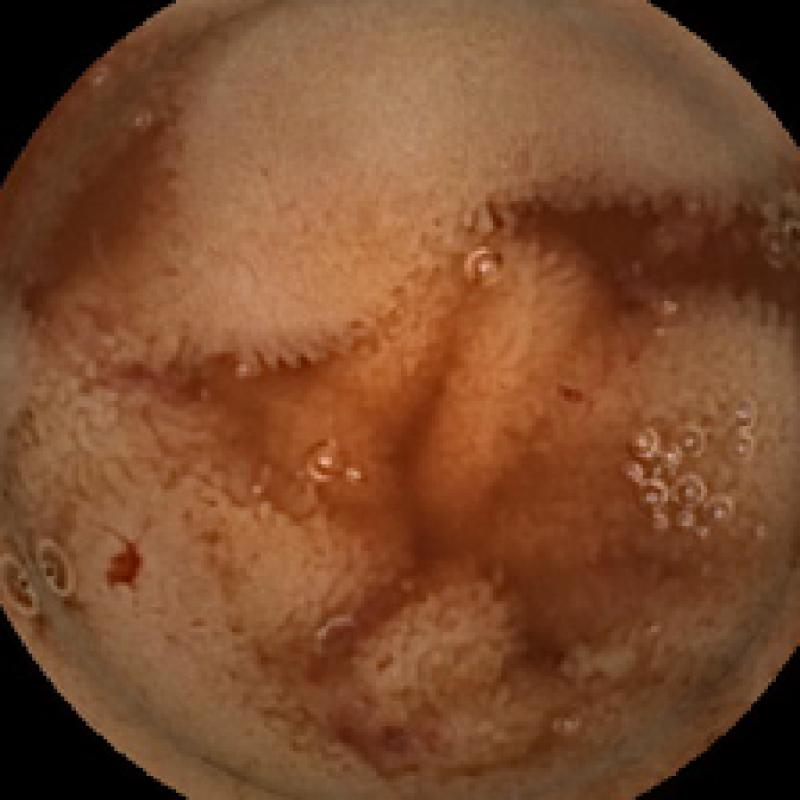bleeding: (100, 536, 154, 596)
